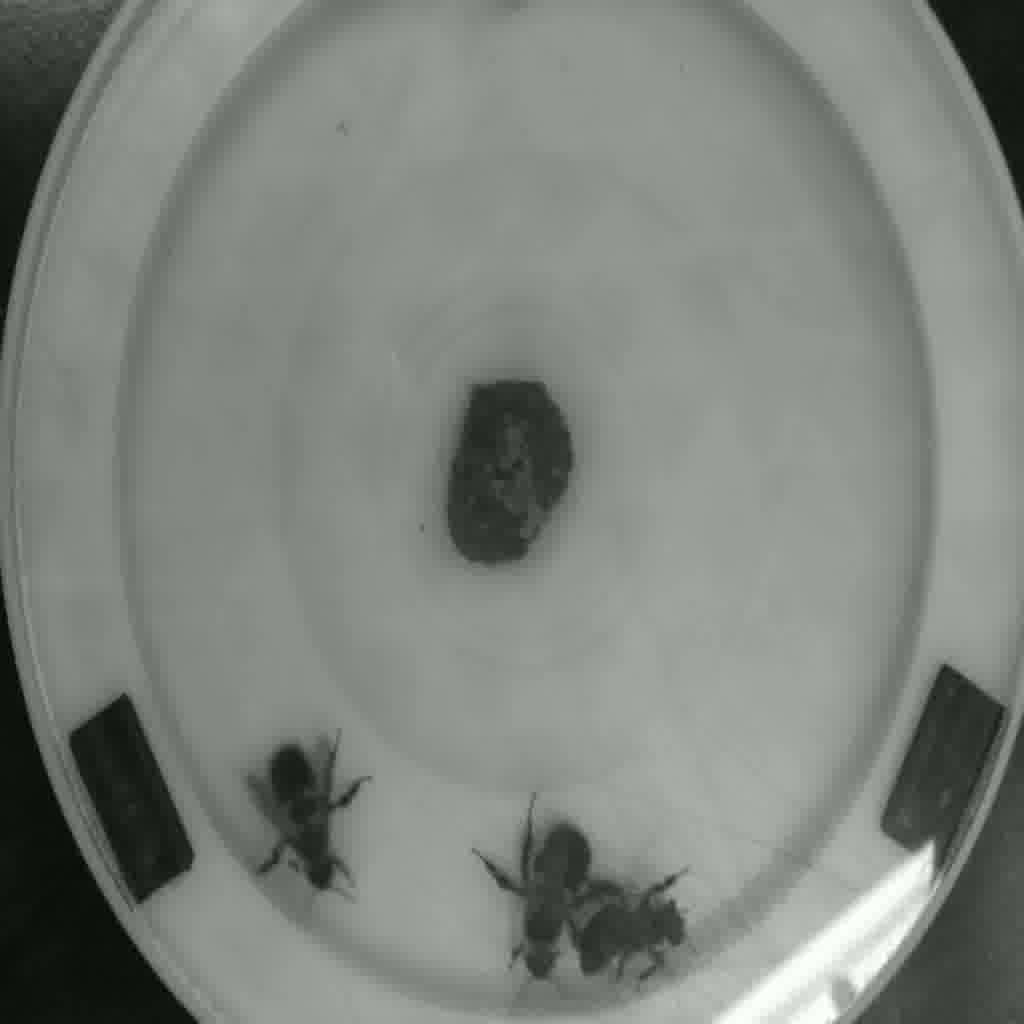bee: (479, 804, 598, 988), (240, 757, 382, 895), (567, 861, 710, 985)
